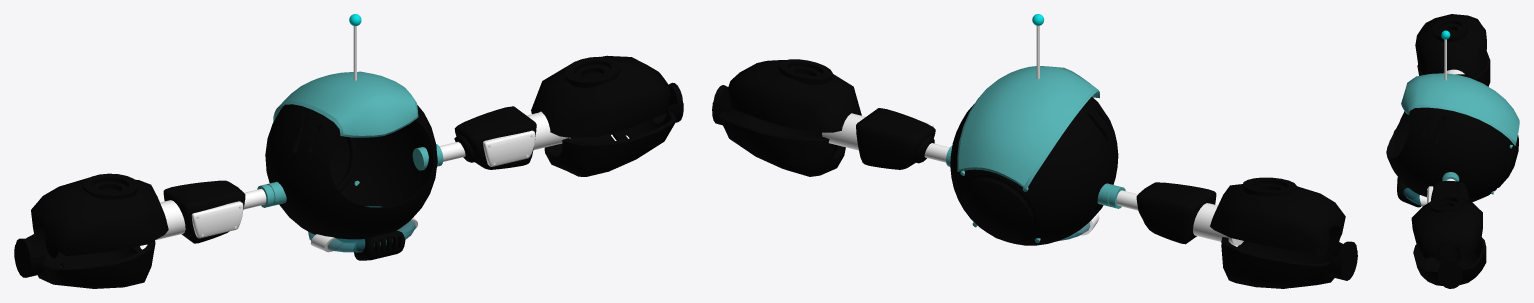
The model's file is 화이트 프릭스.fbx.
3 views of the same model, side by side, from view 1: azimuth 30°, elevation 25°; view 2: azimuth 150°, elevation 25°; view 3: azimuth 270°, elevation 25° (orthographic). The views are drawn at different scales.
Parts seen in each view (by area): view 1: Sphere024; view 2: Sphere024; view 3: Sphere024.
Boxes of the visible parts, box(x1,y1,x2,y2) form: Sphere024: box(14, 14, 683, 288); Sphere024: box(712, 14, 1357, 288); Sphere024: box(1386, 14, 1519, 288).
Bounding box in the file's own units: 920 × 311 × 219.
